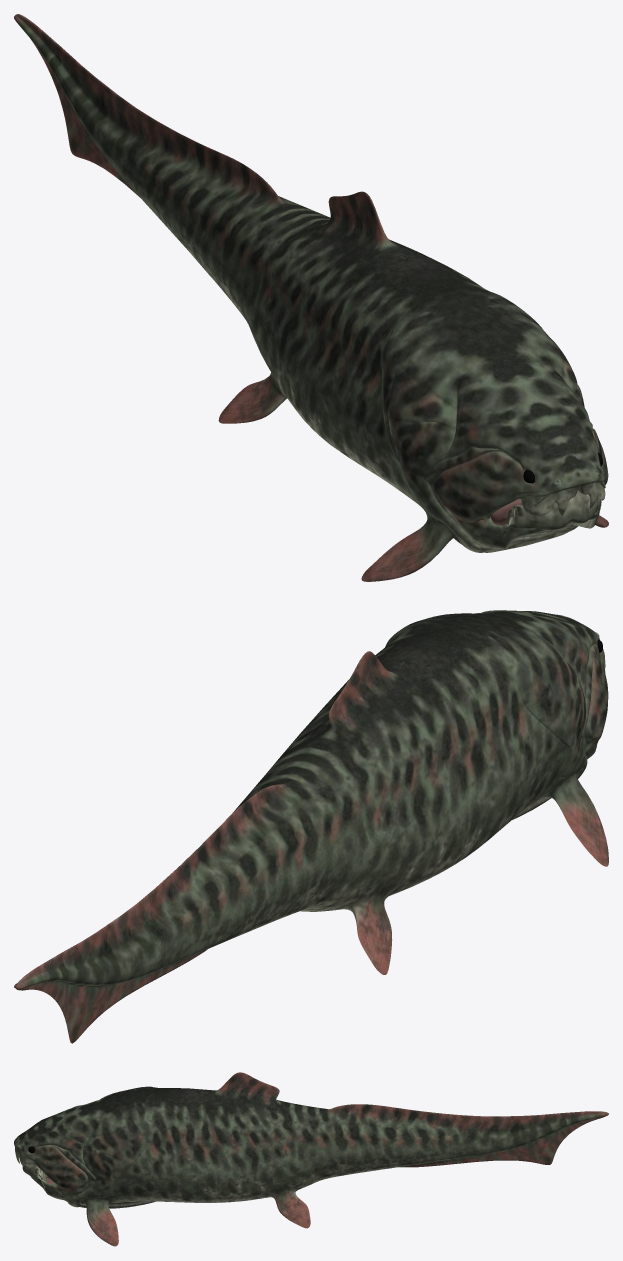
File: dunkleosteus.glb
3 views of the same model, one above another, from view 1: azimuth 30°, elevation 25°; view 2: azimuth 150°, elevation 25°; view 3: azimuth 270°, elevation 25° (orthographic). The views are drawn at different scales.
Parts seen in each view (by area): view 1: Object_10; view 2: Object_10; view 3: Object_10.
Part boxes in pixels (x1,y1,x2,y2): Object_10: (14,14,608,581); Object_10: (14,610,608,1043); Object_10: (14,1072,608,1246).
Size of the model in its own units: 0.7516 by 0.7934 by 3.
Materials: 6 (5 with a texture image).
